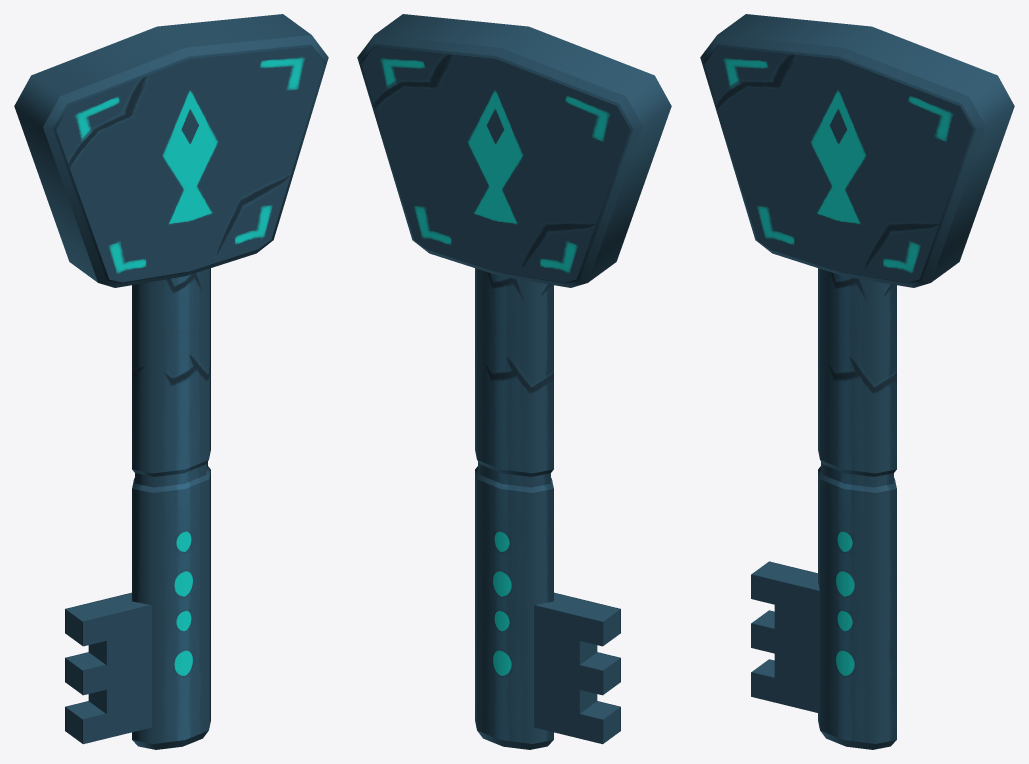
Rendered from rune_key.fbx.
3 views of the same model, side by side, from view 1: azimuth 30°, elevation 25°; view 2: azimuth 150°, elevation 25°; view 3: azimuth 330°, elevation 25° (orthographic).
Visible parts, largest first — view 1: Rune_key; view 2: Rune_key; view 3: Rune_key.
Part boxes in pixels (x1,y1,x2,y2): Rune_key: [14, 14, 328, 749]; Rune_key: [357, 14, 671, 749]; Rune_key: [700, 14, 1014, 749].
Bounding box in the file's own units: 3.67 × 0.8406 × 8.6.
